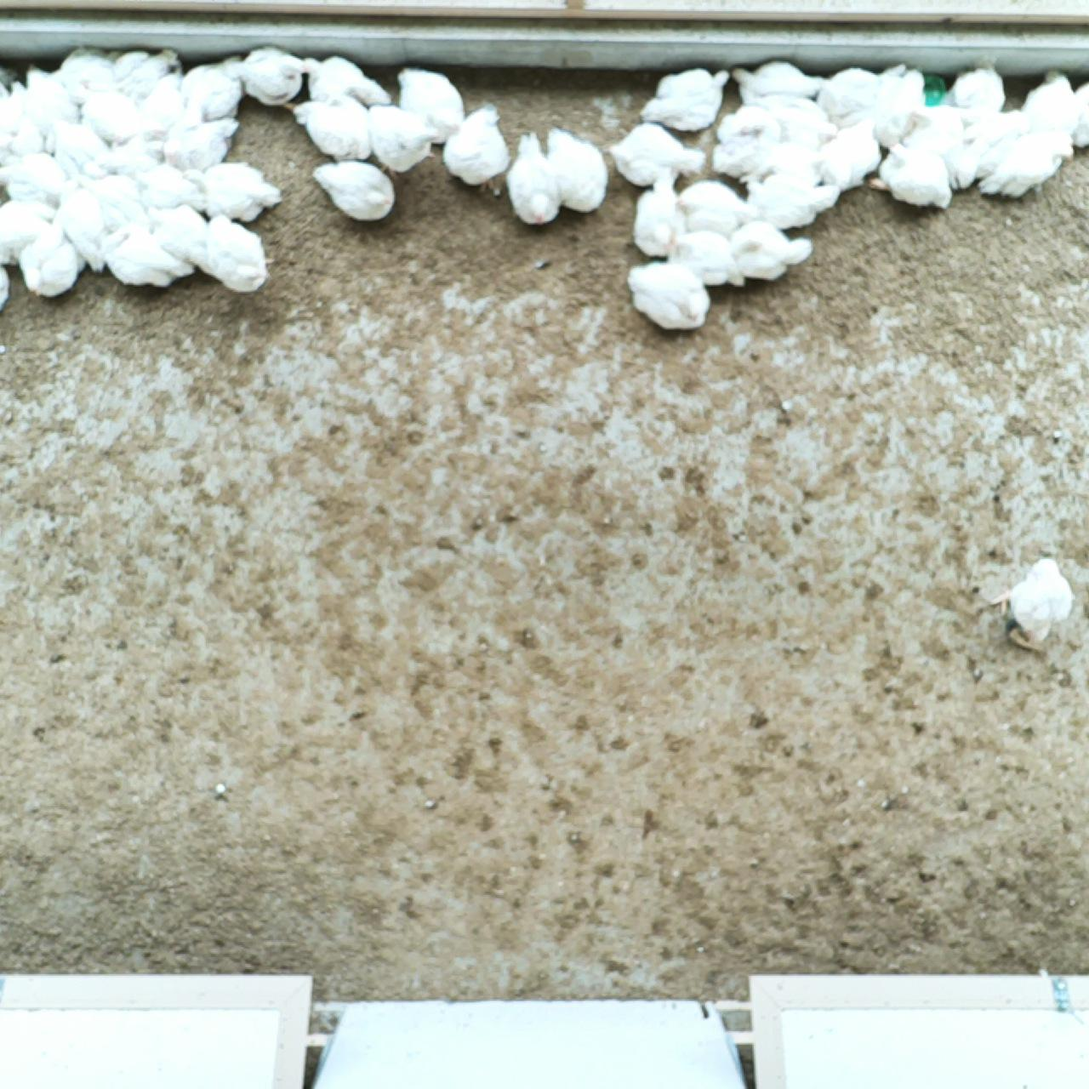chicken: (995, 550, 1075, 653), (624, 255, 711, 335), (183, 158, 282, 227), (722, 215, 818, 286), (96, 219, 191, 290), (442, 102, 512, 198), (975, 131, 1072, 200), (602, 117, 702, 183), (738, 172, 842, 235), (868, 140, 956, 214), (396, 64, 473, 148), (222, 52, 323, 116), (195, 208, 271, 293), (646, 66, 733, 140), (540, 127, 610, 214), (626, 165, 690, 260), (292, 97, 381, 164), (903, 105, 973, 190), (660, 224, 745, 294), (15, 214, 84, 300), (310, 155, 395, 223), (174, 54, 248, 132), (365, 102, 441, 177), (296, 53, 389, 114), (964, 101, 1028, 188), (507, 128, 560, 227), (728, 54, 829, 105), (158, 116, 245, 175), (754, 90, 840, 149), (869, 62, 926, 151), (671, 174, 754, 235), (143, 202, 213, 273), (1016, 69, 1081, 144), (57, 185, 108, 277), (82, 49, 180, 96), (18, 62, 79, 137), (820, 117, 881, 190), (743, 138, 827, 191), (76, 169, 149, 228), (817, 66, 880, 134), (0, 147, 66, 208), (50, 47, 118, 106), (0, 74, 50, 154), (70, 81, 135, 142), (44, 117, 107, 174), (130, 161, 204, 208), (0, 196, 53, 261), (940, 61, 1009, 110), (708, 133, 776, 181), (139, 70, 188, 134), (98, 130, 164, 176), (710, 104, 783, 141), (1061, 76, 1089, 151)
